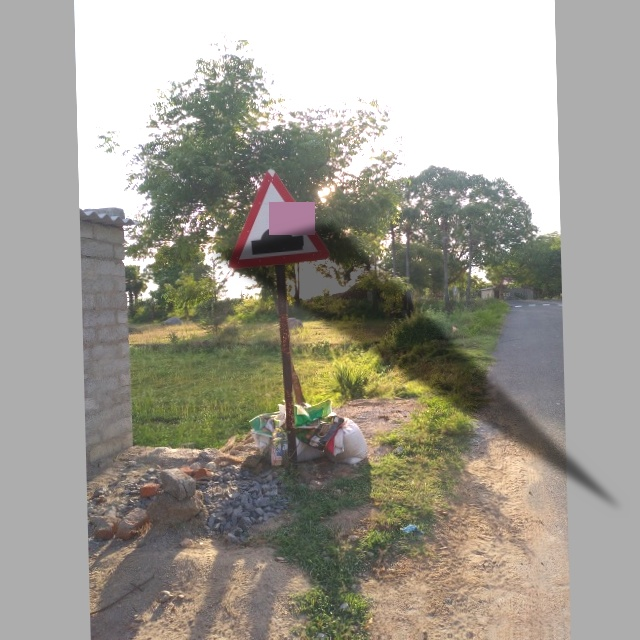Hump_or_Rough_Road: (230, 170, 330, 269)
